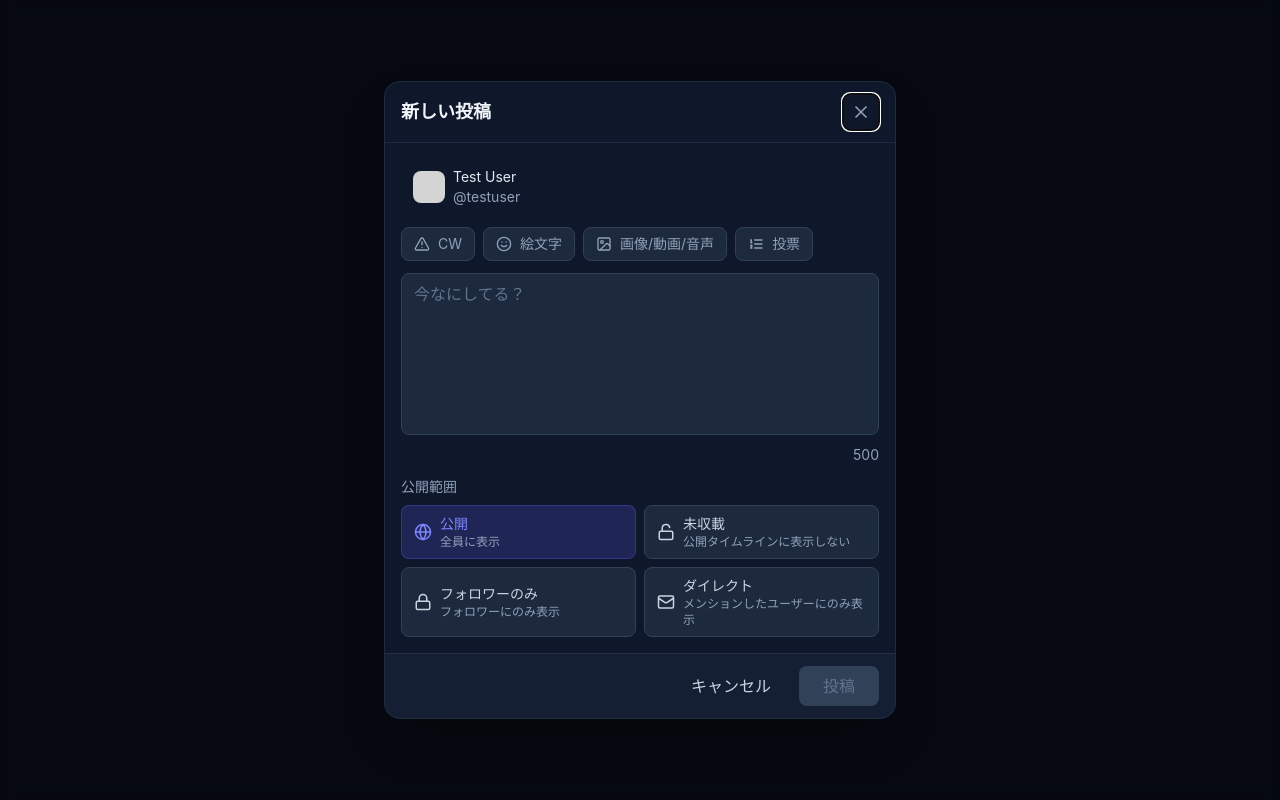
ComposeModal › toggles poll UI when clicking poll button
Check: the field with placeholder "選択肢 1" is not shown
Note: Click poll button
Click the button "投票".
click(774, 244)  # box [735, 227, 813, 261]
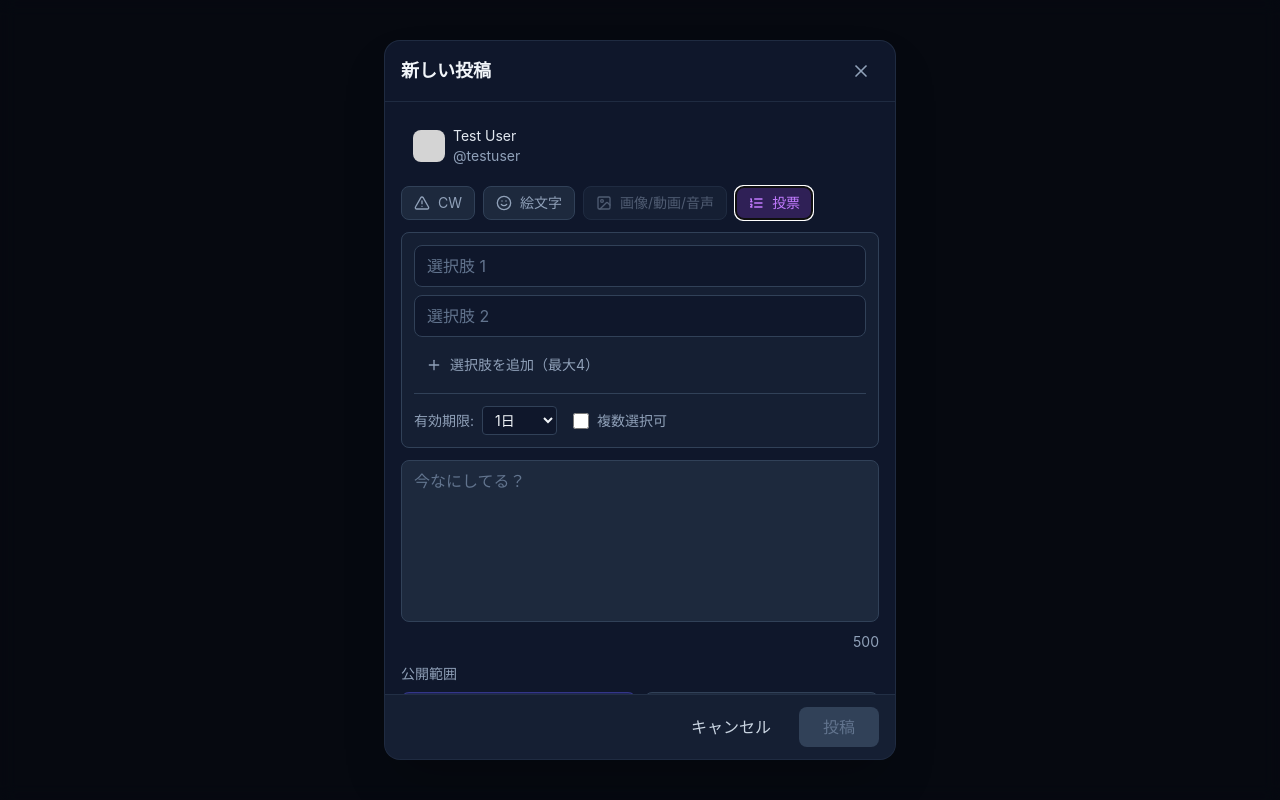
Check: the field with placeholder "選択肢 1" is shown, box [414, 245, 866, 287]
Check: the field with placeholder "選択肢 2" is shown, box [414, 295, 866, 337]
